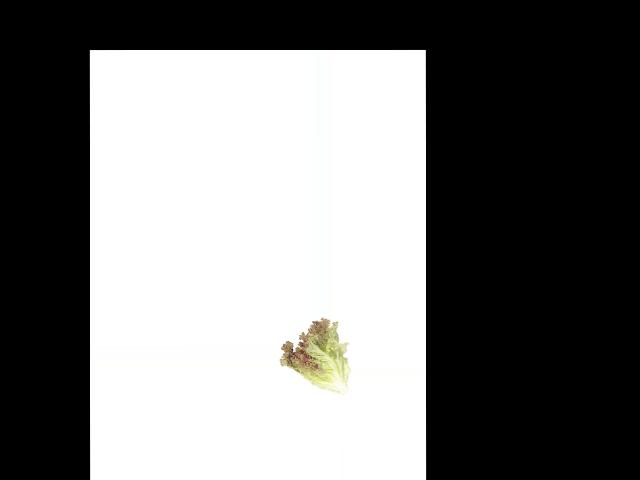lettuce: (280, 317, 349, 393)
